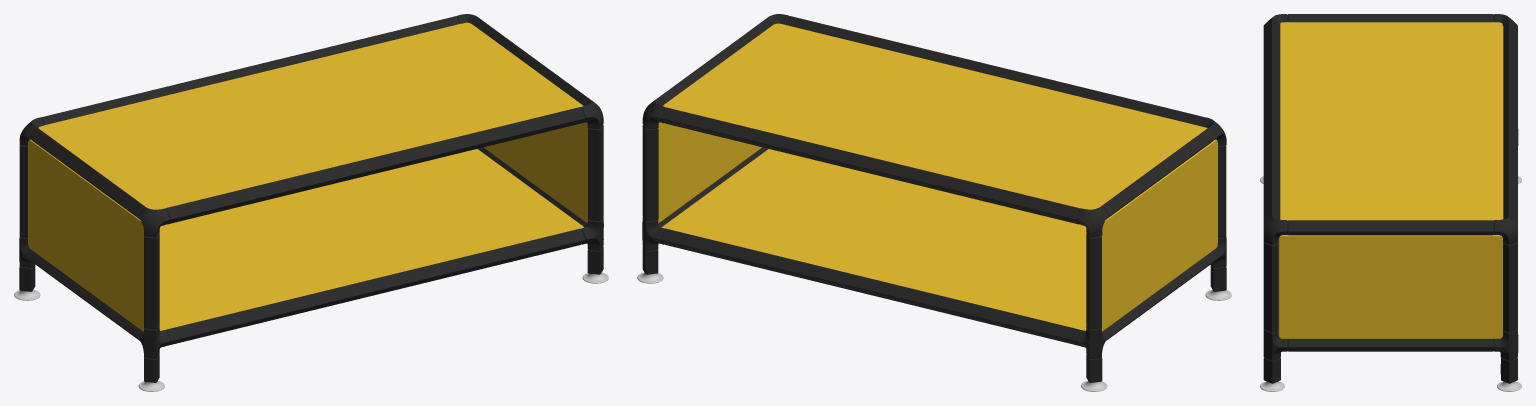
3 views of the same model, side by side, from view 1: azimuth 30°, elevation 25°; view 2: azimuth 150°, elevation 25°; view 3: azimuth 270°, elevation 25° (orthographic). The views are drawn at different scales.
Parts seen in each view (by area): view 1: 729x329x154; view 2: 729x329x154; view 3: 729x329x154.
Part boxes in pixels (left/top/right/bottom): 729x329x154: left=14, top=14, right=608, bottom=391; 729x329x154: left=637, top=14, right=1231, bottom=391; 729x329x154: left=1260, top=14, right=1521, bottom=391.
Size of the model in its own units: 0.8189 by 0.2933 by 0.4181.
